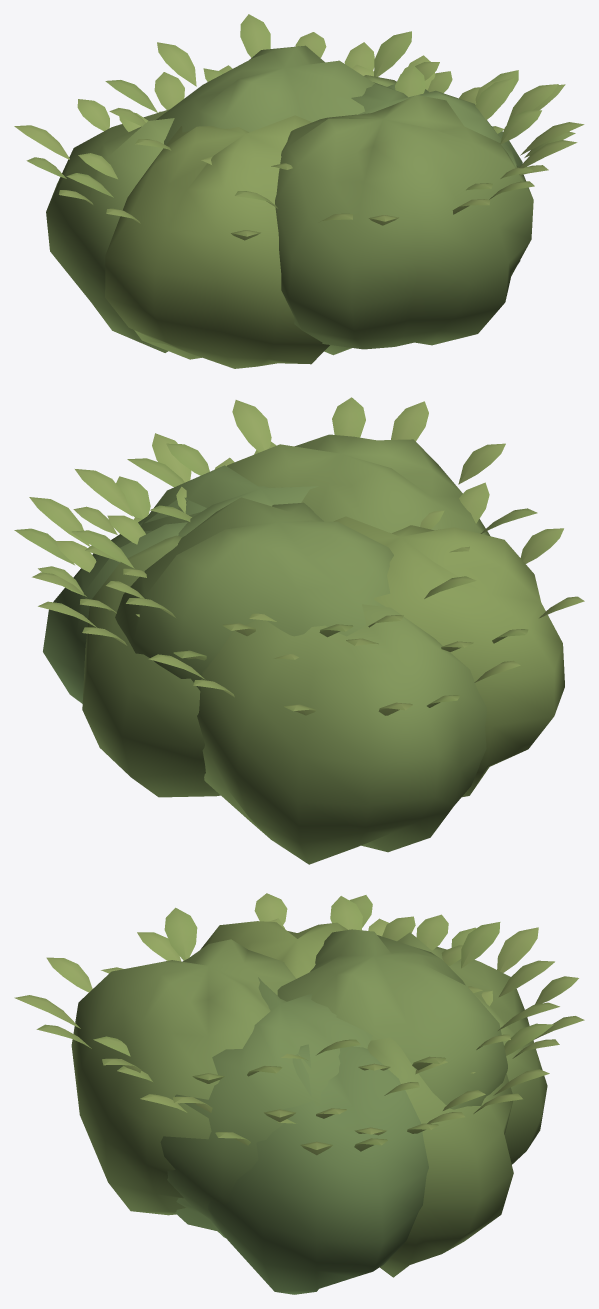
Rendered from Bush_Round.glb.
3 views of the same model, one above another, from view 1: azimuth 30°, elevation 25°; view 2: azimuth 150°, elevation 25°; view 3: azimuth 270°, elevation 25° (orthographic). The views are drawn at different scales.
Parts seen in each view (by area): view 1: Bush_Round; view 2: Bush_Round; view 3: Bush_Round.
Boxes of the visible parts, <box> form: Bush_Round: <box>14,14,584,368</box>; Bush_Round: <box>14,397,584,864</box>; Bush_Round: <box>14,893,584,1294</box>.
Bounding box in the file's own units: 1.68 × 0.9004 × 1.62.
